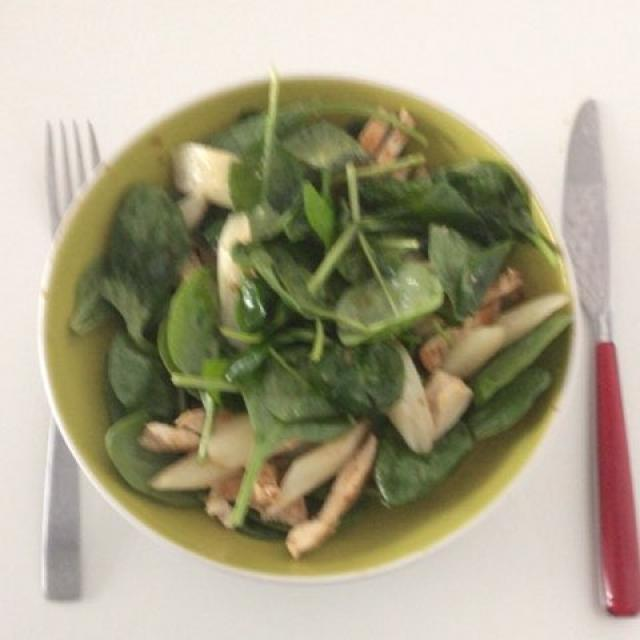salad: (73, 81, 565, 547)
